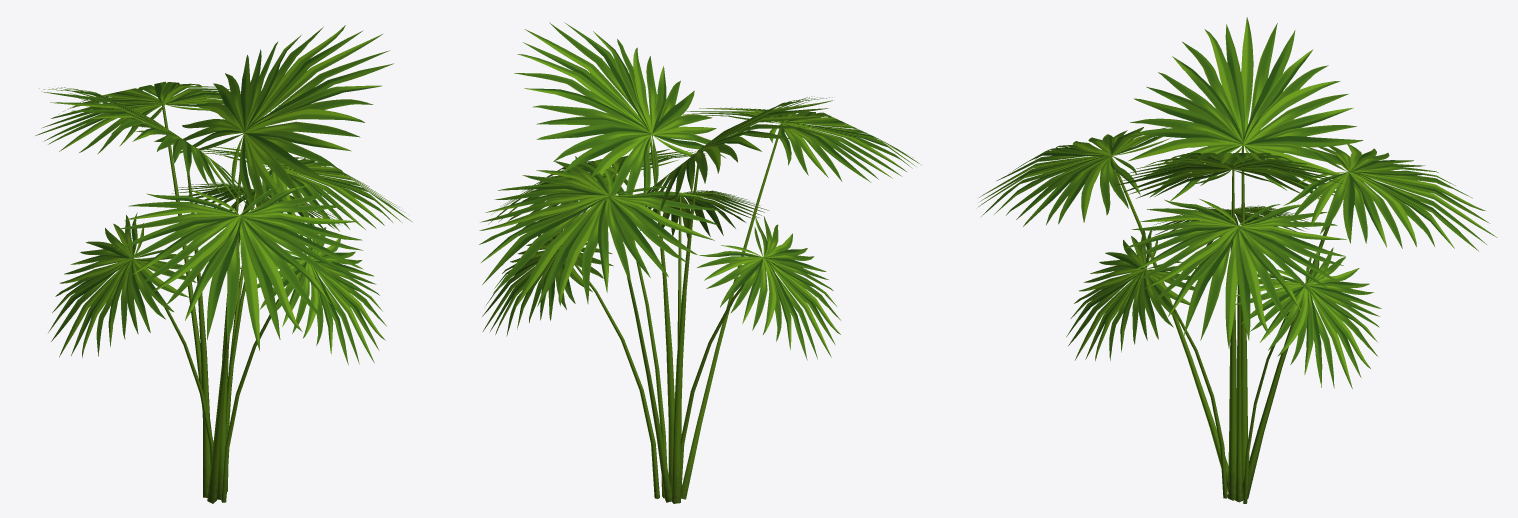
Rendered from plant3.FBX.
3 renders of one model, left to right at view 1: azimuth 30°, elevation 25°; view 2: azimuth 150°, elevation 25°; view 3: azimuth 270°, elevation 25°, orthographic. The views are drawn at different scales.
Parts seen in each view (by area): view 1: plant3; view 2: plant3; view 3: plant3.
Boxes of the visible parts, x1,y1,x2,y2 form: plant3: [35, 25, 411, 503]; plant3: [479, 22, 920, 503]; plant3: [978, 17, 1497, 503].
Bounding box in the file's own units: 36.87 × 51.09 × 42.23.
